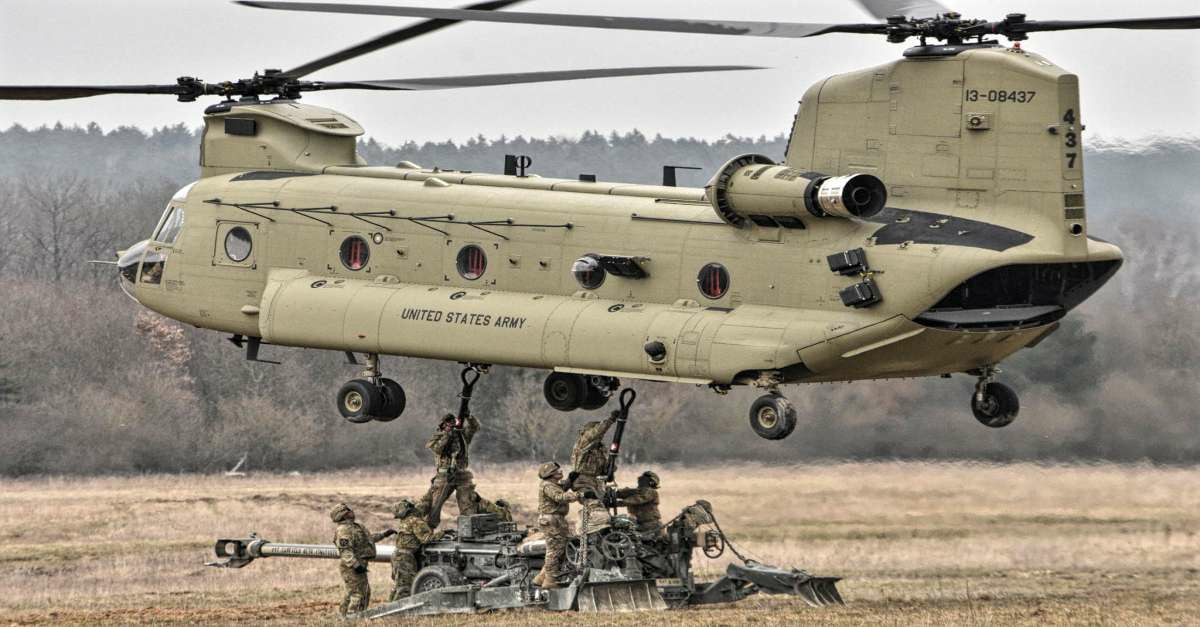chinook: (29, 8, 1188, 436)
